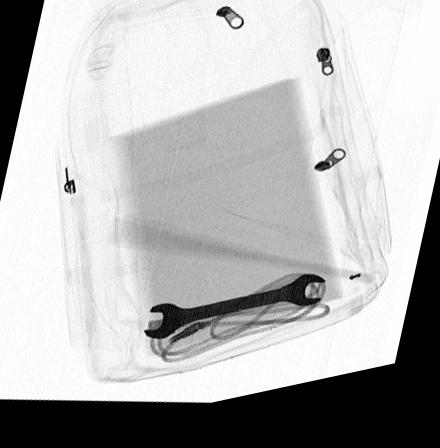Wrench: (142, 286, 327, 347)
